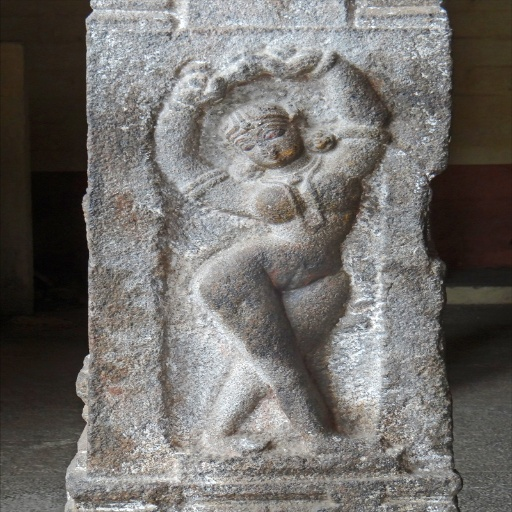hand: (170, 67, 227, 110), (263, 43, 325, 78)
